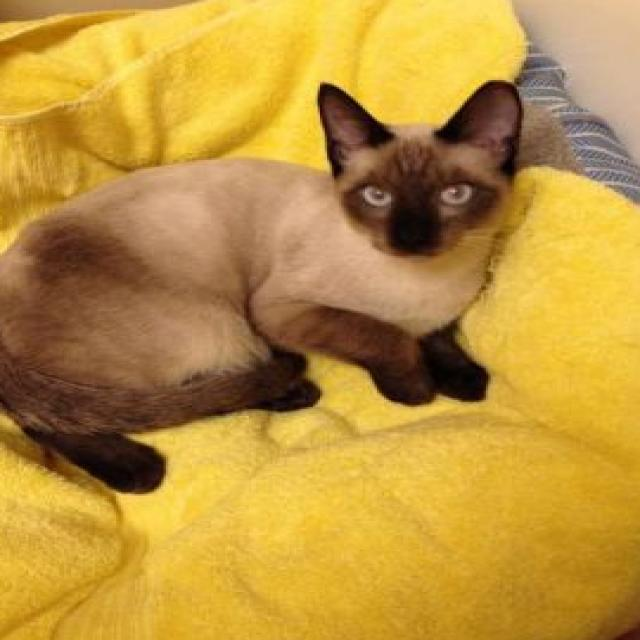Siamese: (0, 75, 531, 496)
